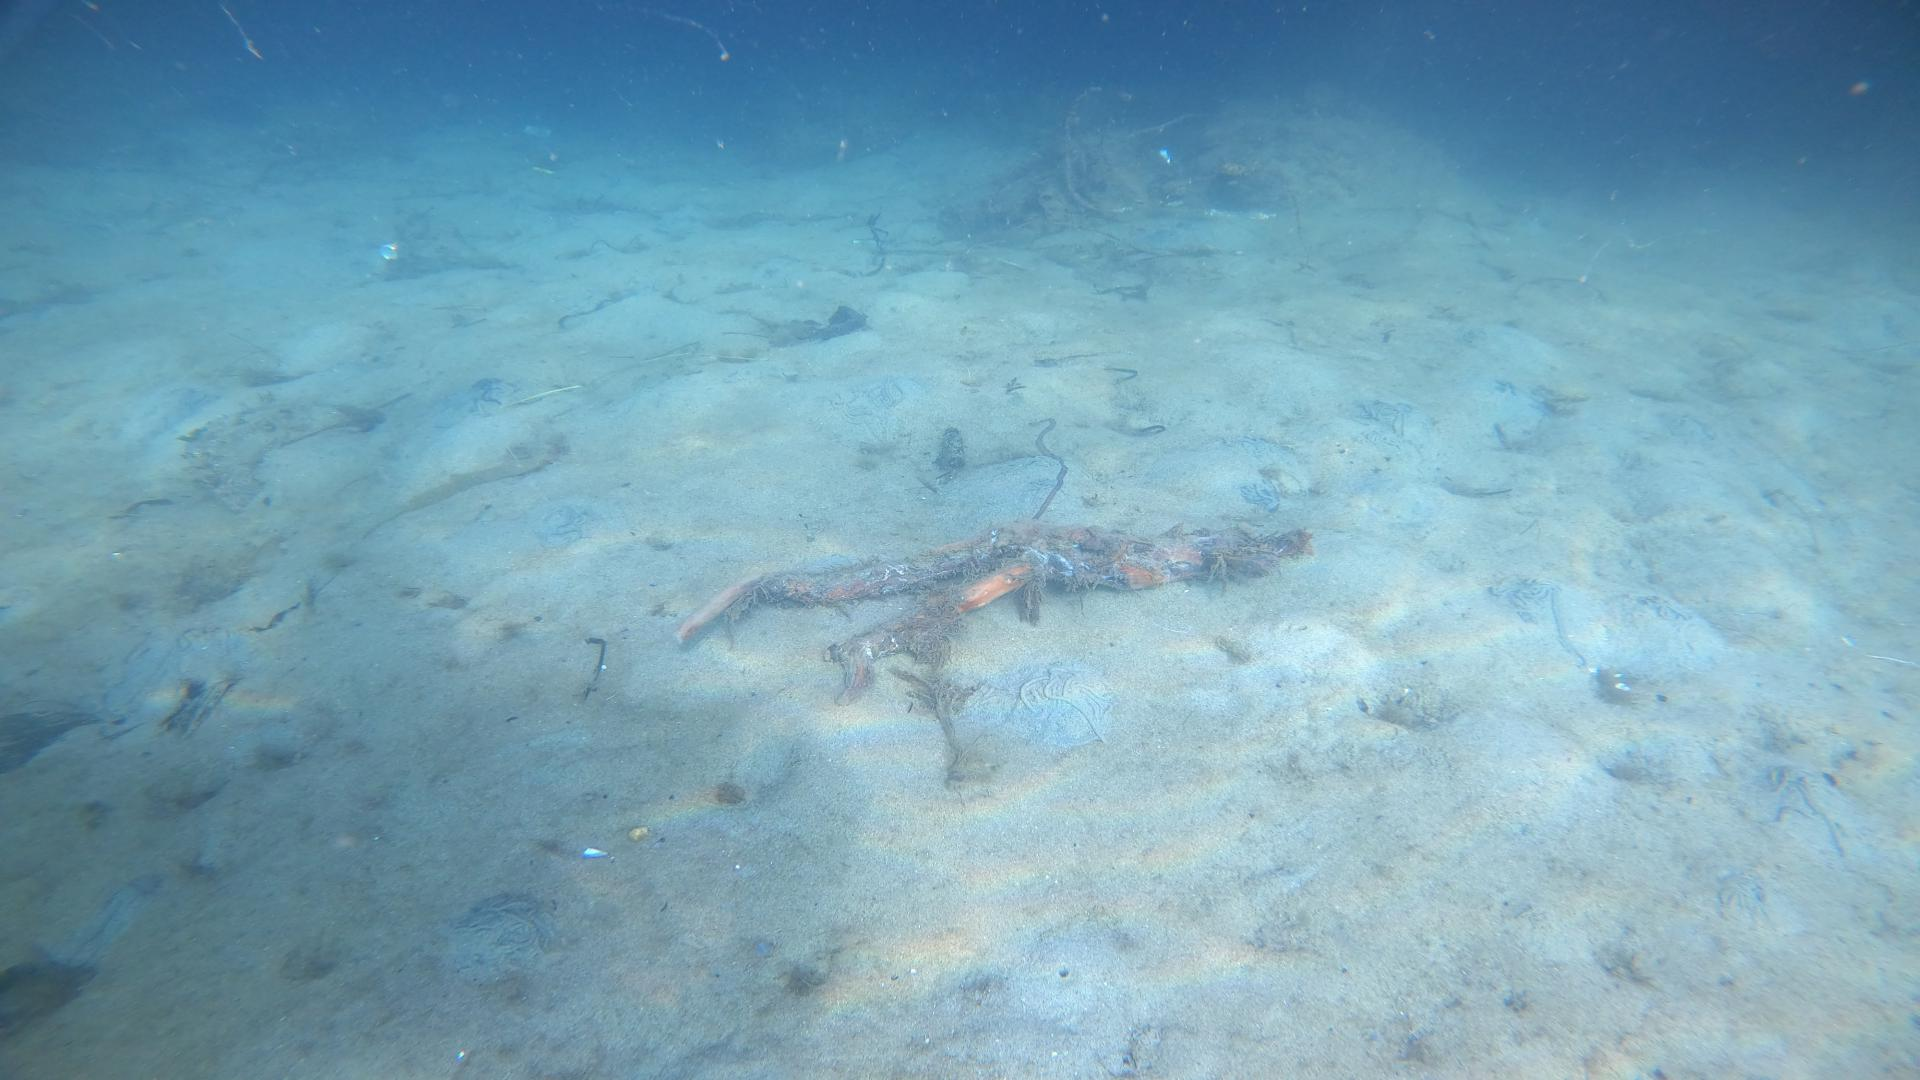wood: (675, 520, 1305, 704)
